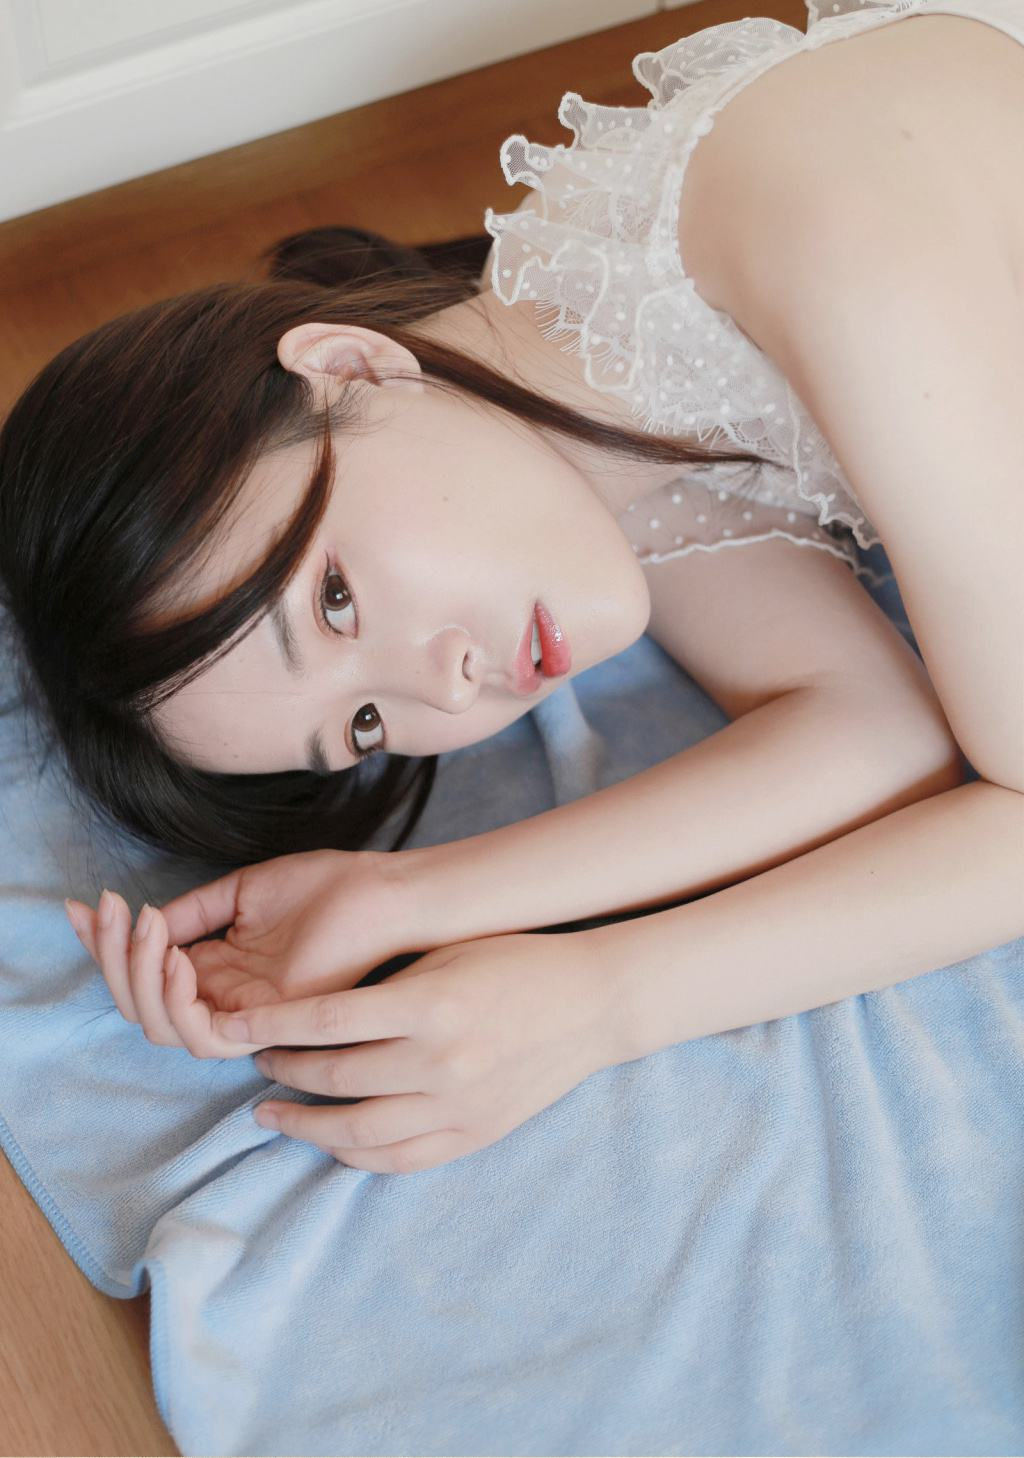person: (28, 114, 1024, 1104)
